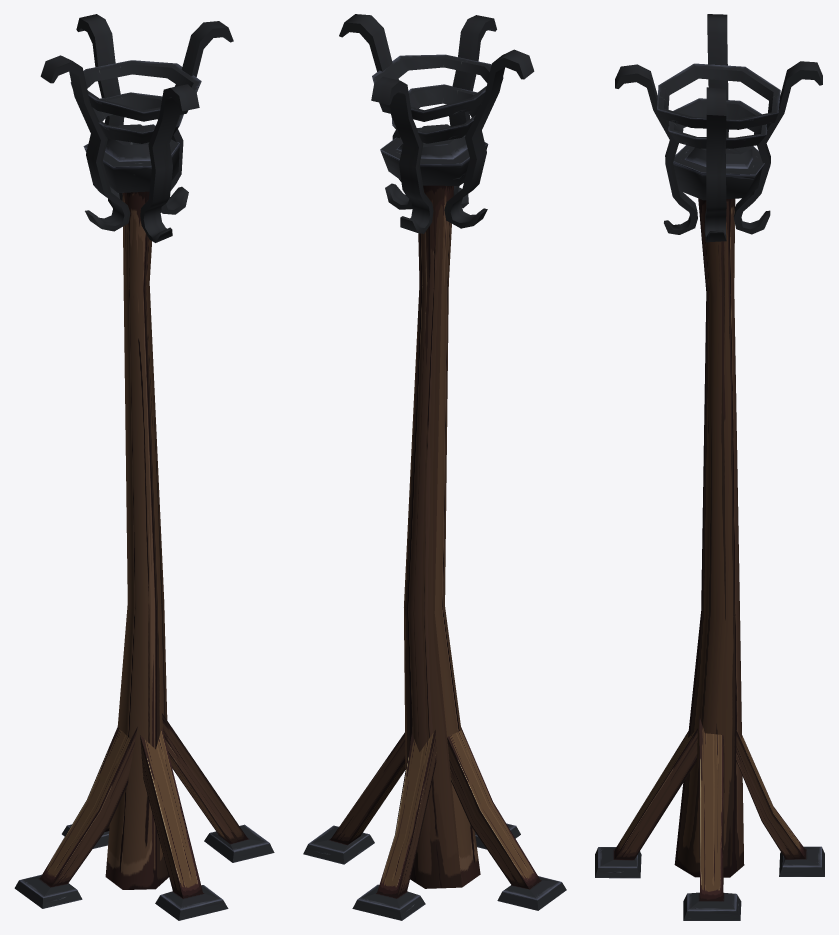
Rendered from SM_PROP_torch_standing_dungeon.fbx.
The picture shows the model from 3 angles, left to right: view 1: azimuth 30°, elevation 25°; view 2: azimuth 150°, elevation 25°; view 3: azimuth 270°, elevation 25°; orthographic projection. The views are drawn at different scales.
Visible parts, largest first — view 1: SM_PROP_torch_standing_dungeon; view 2: SM_PROP_torch_standing_dungeon; view 3: SM_PROP_torch_standing_dungeon.
Part boxes in pixels (x1=…): SM_PROP_torch_standing_dungeon: x1=14, y1=14, x2=274, y2=920; SM_PROP_torch_standing_dungeon: x1=303, y1=14, x2=566, y2=920; SM_PROP_torch_standing_dungeon: x1=595, y1=14, x2=824, y2=920.
Bounding box in the file's own units: 53.7 × 184 × 47.19.
